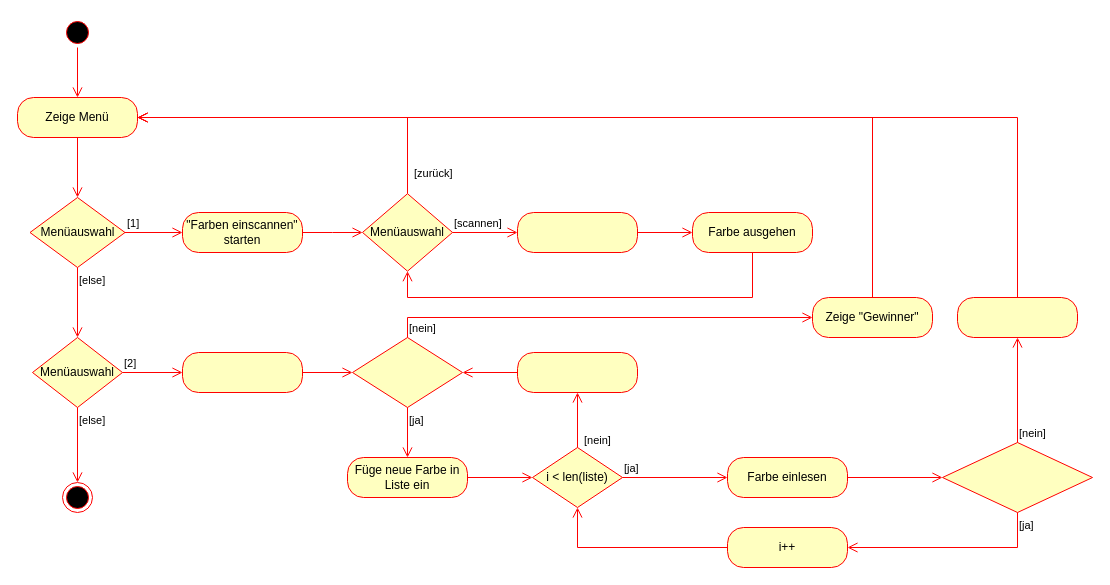
Image size: 1110x585. Some labels were removed from this diagram. Here are the shapes that lost their labels. From the top down, the centre of each, then its label:
point (577, 232): Farbe einscannen
point (1017, 317): Zeige "Verlierer"
point (242, 372): "Farbmemory" starten
point (407, 372): punkte < max_punkte
point (577, 372): punkte++
point (1017, 477): liste[i] ~= eingelesene_farbe
